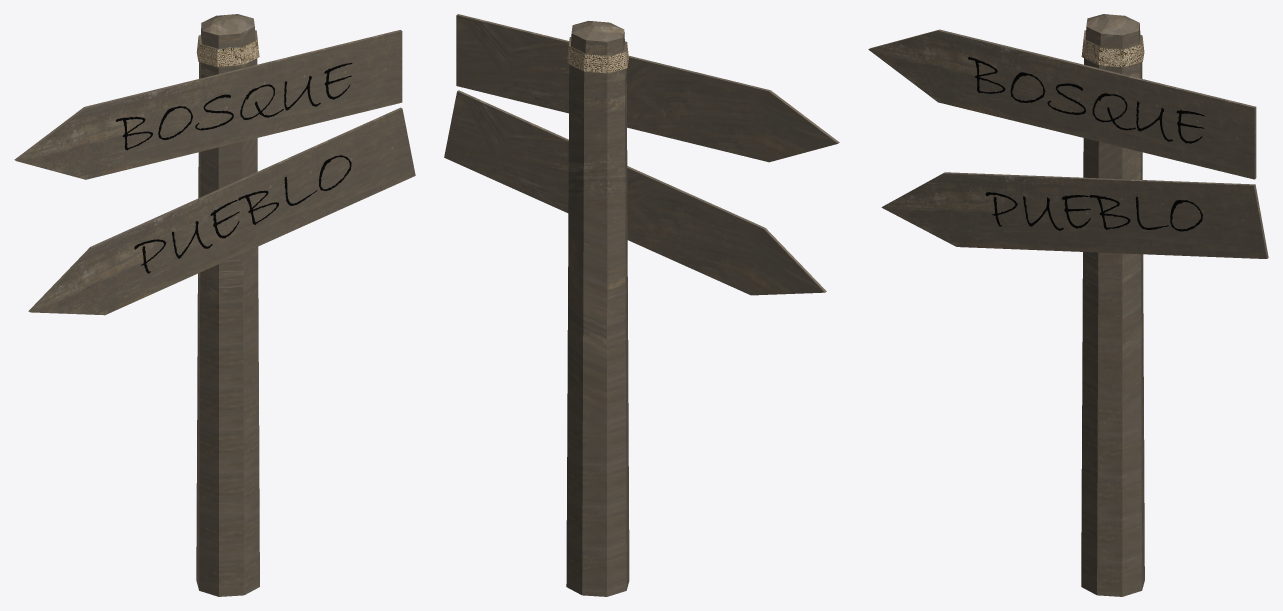
File: sign.glb
The picture shows the model from 3 angles, left to right: view 1: azimuth 30°, elevation 25°; view 2: azimuth 150°, elevation 25°; view 3: azimuth 330°, elevation 25°; orthographic projection.
Parts seen in each view (by area): view 1: Letrero, Letrero2, Bosque, Bosque.001; view 2: Letrero, Letrero2; view 3: Letrero, Letrero2, Bosque, Bosque.001.
Part boxes in pixels (x1,y1,x2,y2): Letrero: (14,14,402,596); Letrero2: (28,107,415,315); Bosque: (115,63,352,150); Bosque.001: (134,155,351,273); Letrero: (456,14,839,596); Letrero2: (444,90,826,295); Letrero: (868,14,1256,596); Letrero2: (881,172,1268,258); Bosque: (968,57,1204,143); Bosque.001: (985,192,1202,231).
Size of the model in its own units: 12.92 by 17.51 by 1.84.
Materials: 4 (2 with a texture image).
